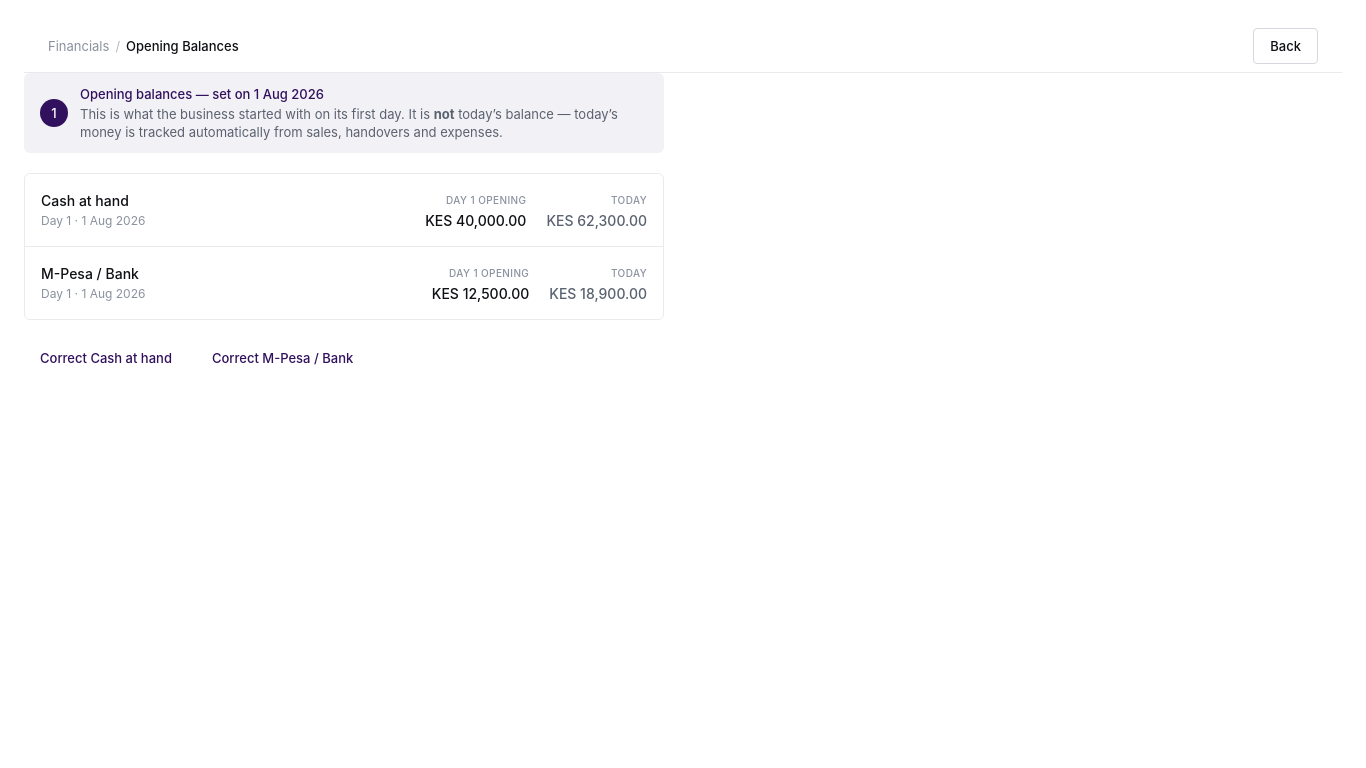
/admin/financials/opening — the correction drawer › surfaces a closed-day rejection in the drawer
Click the button "Correct Cash at hand": (106, 358) [24,340,188,376]
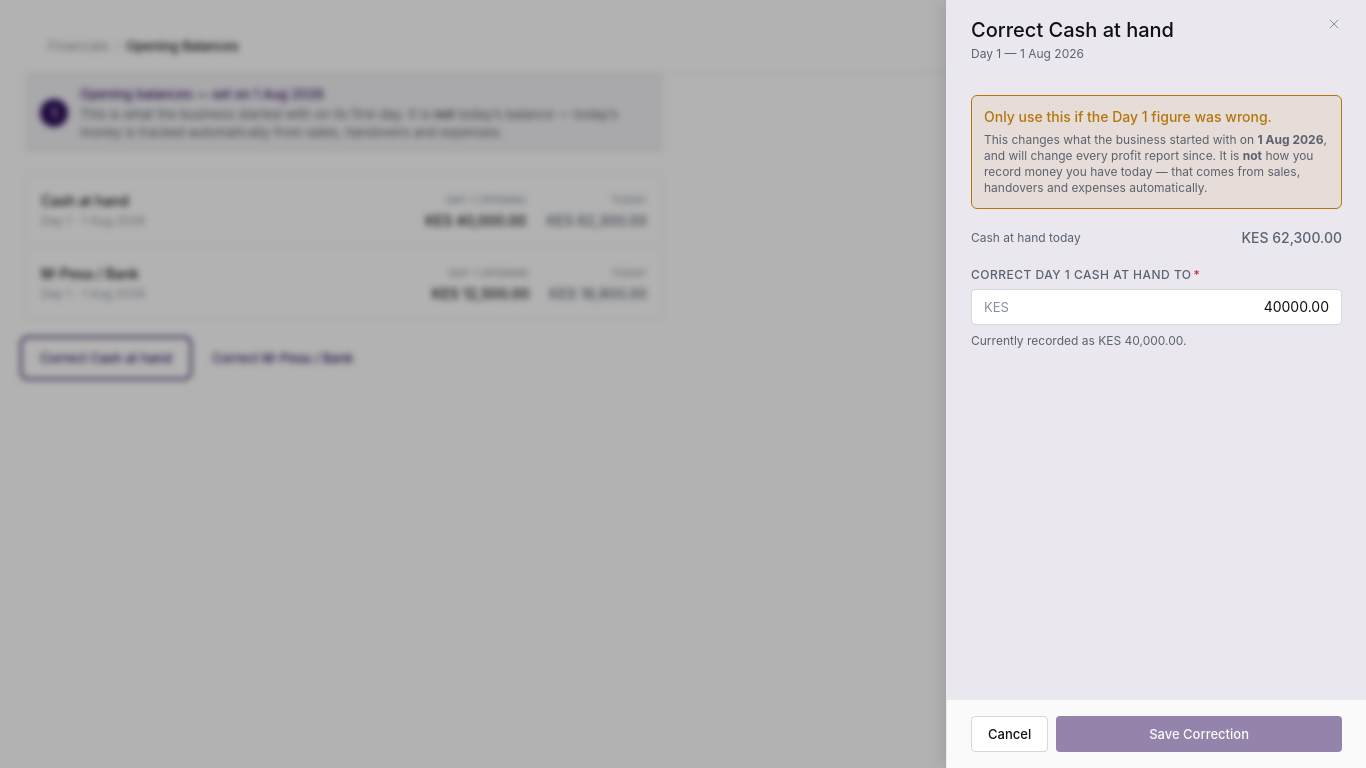
Replace the text in the field labelled "Correct Day 1 Cash at hand to*" with "45000": (1169, 307) [1009,298,1329,316]
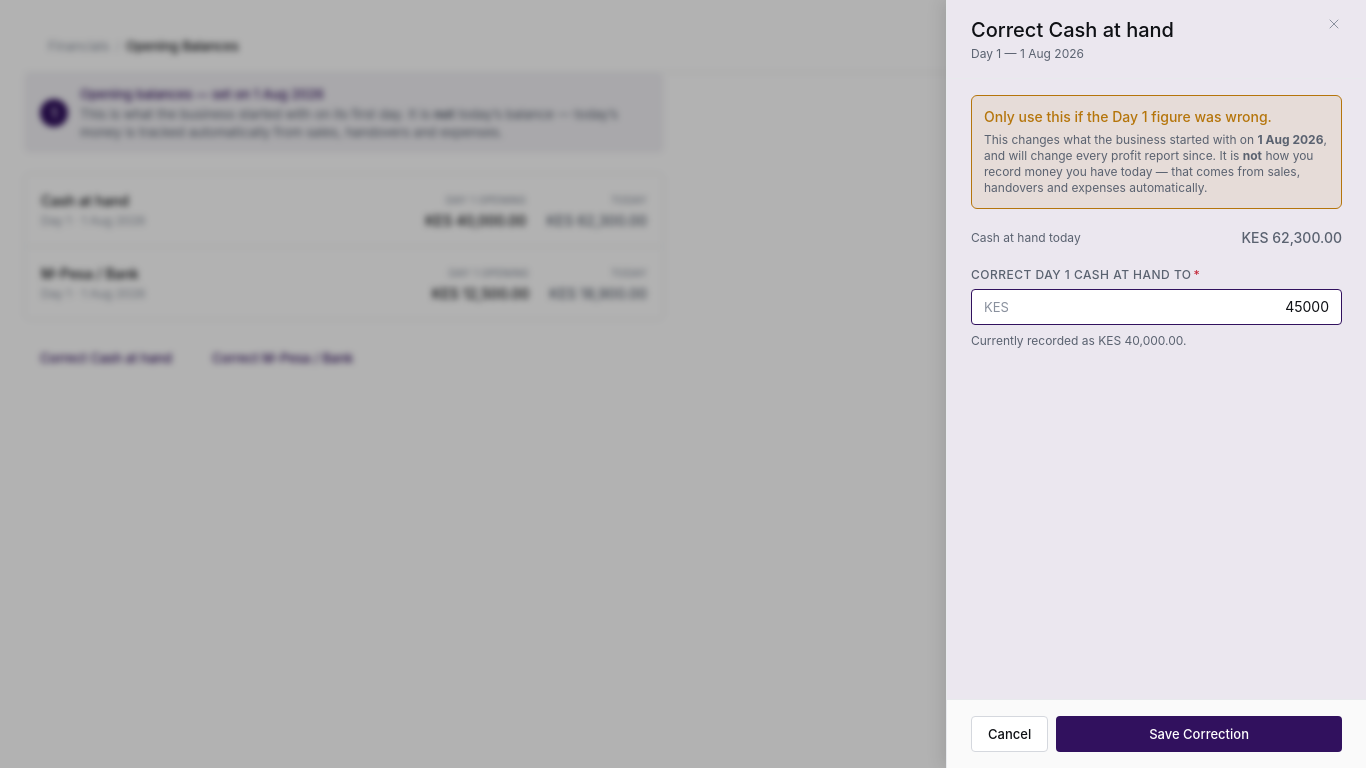
Click the button "Save Correction": (1199, 734) [1056,716,1342,752]
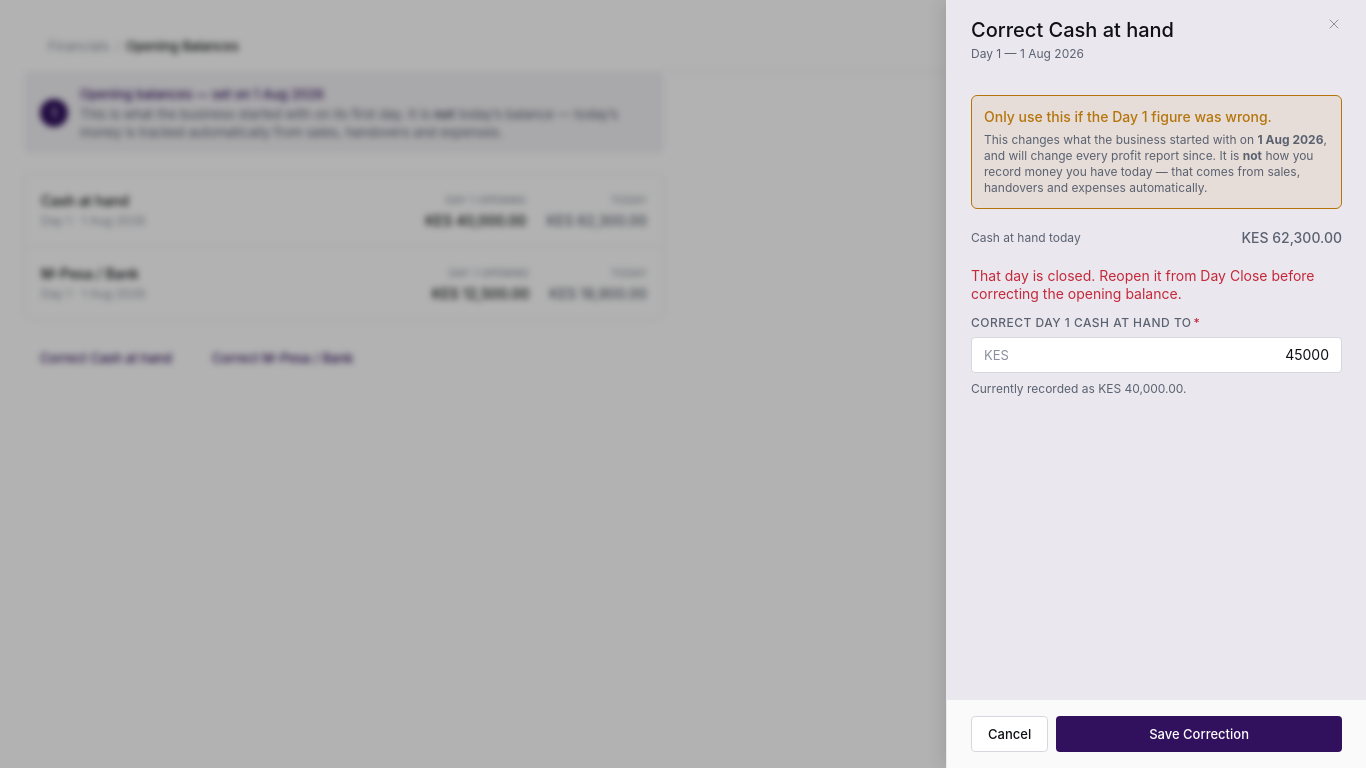
Now the message shows "Reopen it from Day Close", box [971,267,1314,302]
